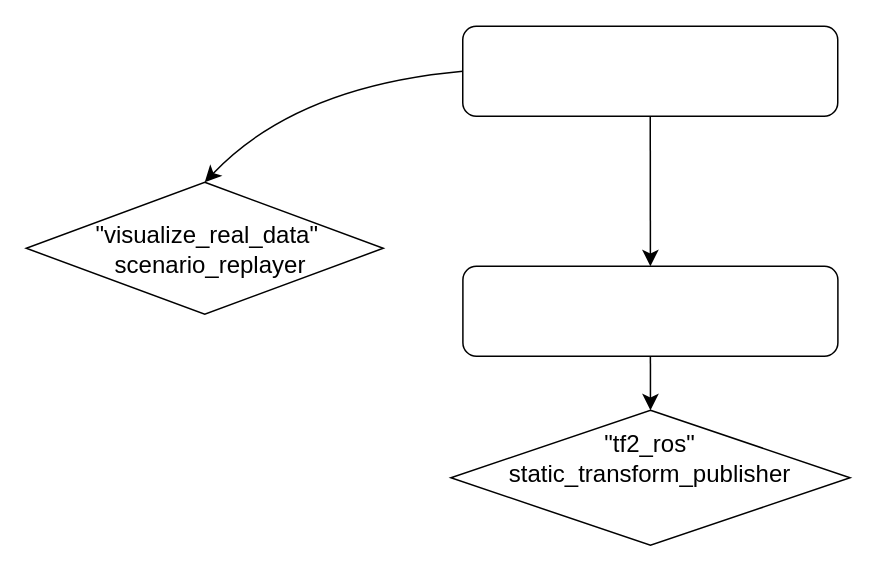
Image size: 878x572. Some labels were removed from this diagram. Each missing label, with the centre of its shape:
"visualize_real_data" scenario_replayer.launch.py: the point at 649,70
"visualize_real_data" send.launch.py: the point at 649,310
